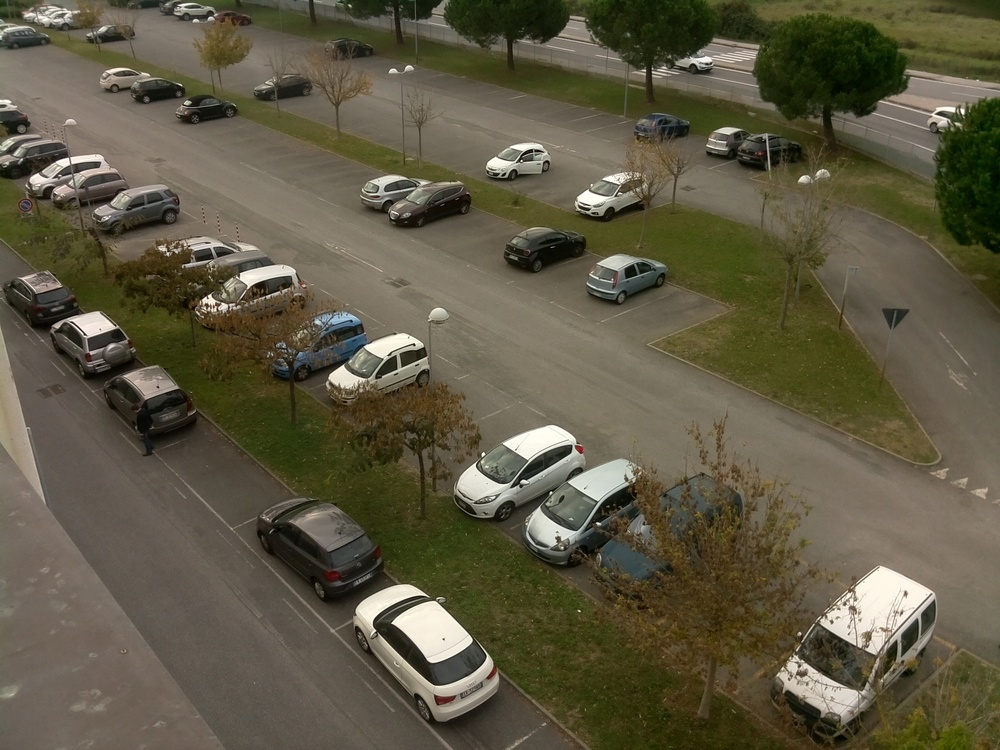Car: (772, 566, 937, 739), (353, 584, 500, 723), (592, 475, 740, 607), (256, 497, 383, 600), (453, 425, 586, 522), (522, 458, 639, 566), (194, 264, 305, 330), (327, 333, 430, 404), (268, 311, 367, 381), (103, 366, 197, 436), (50, 312, 135, 377), (181, 251, 276, 299), (92, 185, 180, 235), (4, 271, 79, 326), (586, 255, 668, 304), (389, 181, 472, 227), (26, 154, 110, 199), (503, 227, 587, 272), (574, 172, 648, 220), (156, 235, 259, 268), (51, 168, 128, 211), (360, 175, 432, 212), (0, 140, 69, 178), (485, 142, 551, 181), (737, 133, 803, 169), (175, 95, 238, 124), (253, 73, 313, 101), (633, 113, 690, 142), (705, 127, 753, 159), (130, 77, 185, 104), (100, 67, 151, 93), (927, 106, 969, 134), (665, 49, 713, 73), (325, 37, 374, 59), (3, 27, 50, 49), (0, 134, 40, 157), (85, 24, 136, 42), (174, 2, 216, 20), (0, 25, 36, 46), (0, 110, 29, 134), (24, 6, 67, 22), (52, 11, 81, 31), (41, 11, 72, 29), (34, 9, 67, 25), (214, 11, 250, 24), (22, 4, 53, 19), (160, 0, 189, 15), (128, 0, 170, 9), (333, 0, 353, 13), (0, 99, 17, 111), (108, 0, 131, 8), (0, 23, 18, 31), (0, 18, 5, 24)
